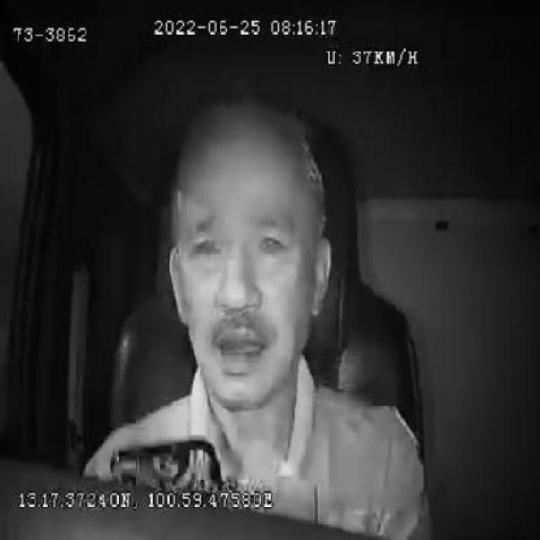phone: (111, 436, 224, 490)
